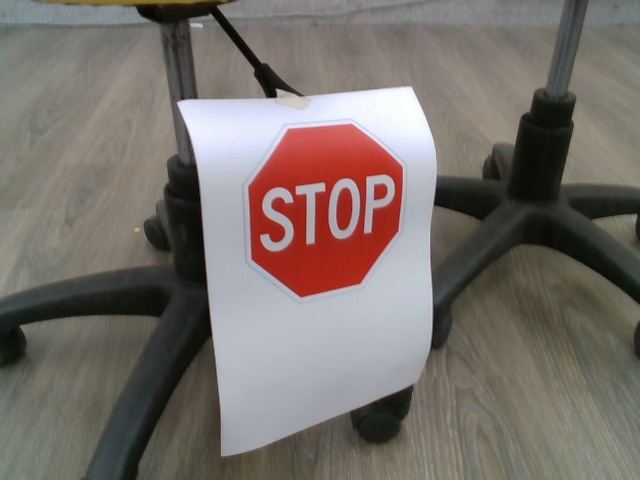stop: (242, 118, 408, 304)
